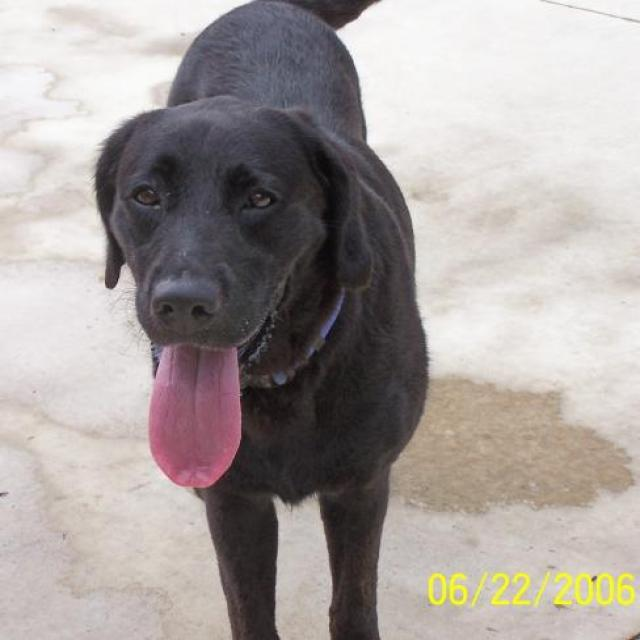Dogs: (92, 0, 430, 639)
